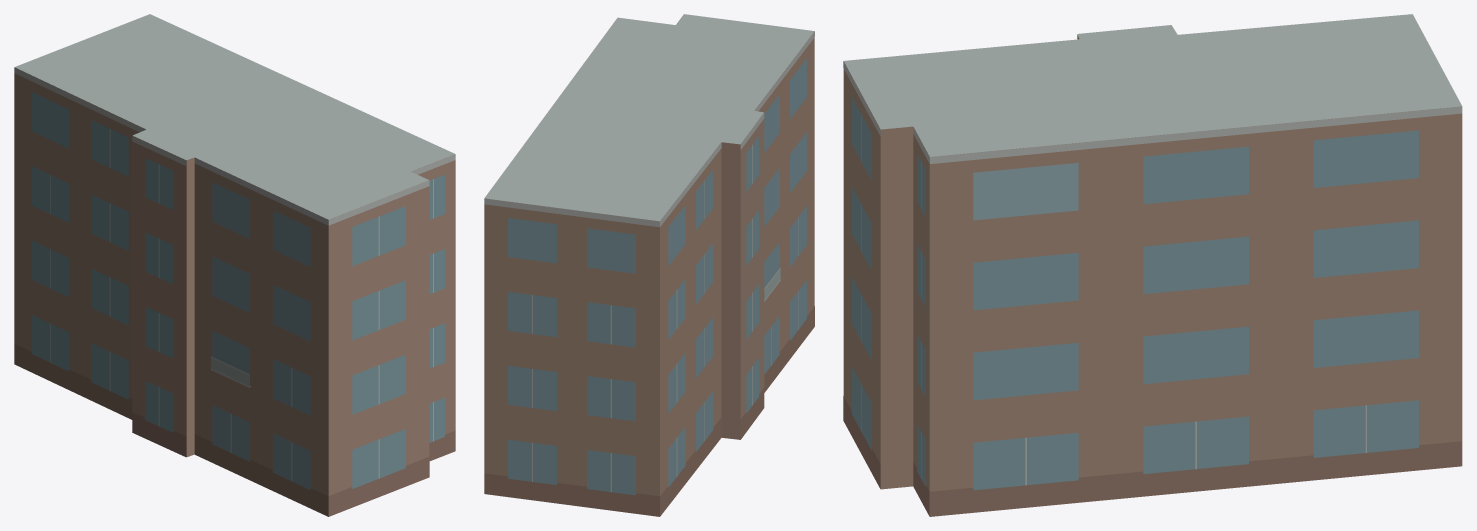
The model's file is survey-upis-32704627.glb.
The picture shows the model from 3 angles, left to right: view 1: azimuth 30°, elevation 25°; view 2: azimuth 150°, elevation 25°; view 3: azimuth 270°, elevation 25°; orthographic projection. The views are drawn at different scales.
Parts seen in each view (by area): view 1: survey-upis-32704627.tmp; view 2: survey-upis-32704627.tmp; view 3: survey-upis-32704627.tmp.
Part boxes in pixels (left/top/right/bottom): survey-upis-32704627.tmp: left=14, top=14, right=455, bottom=516; survey-upis-32704627.tmp: left=484, top=14, right=814, bottom=516; survey-upis-32704627.tmp: left=843, top=14, right=1462, bottom=516.
Size of the model in its own units: 10.4 by 12.2 by 19.02.
